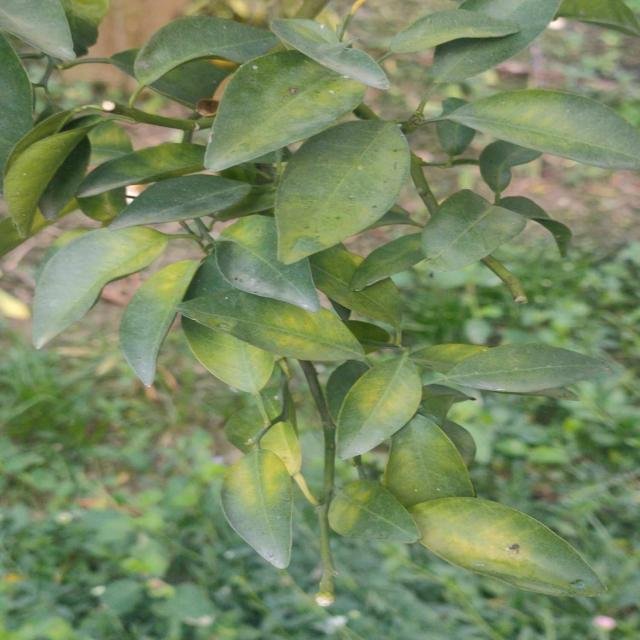Anthracnose: (269, 128, 421, 252)
Canker: (432, 502, 618, 614), (188, 292, 372, 371), (249, 56, 375, 121)
Greening: (199, 284, 374, 372), (215, 442, 314, 572), (0, 112, 109, 220), (333, 361, 435, 458), (124, 253, 208, 312), (60, 225, 162, 270)
